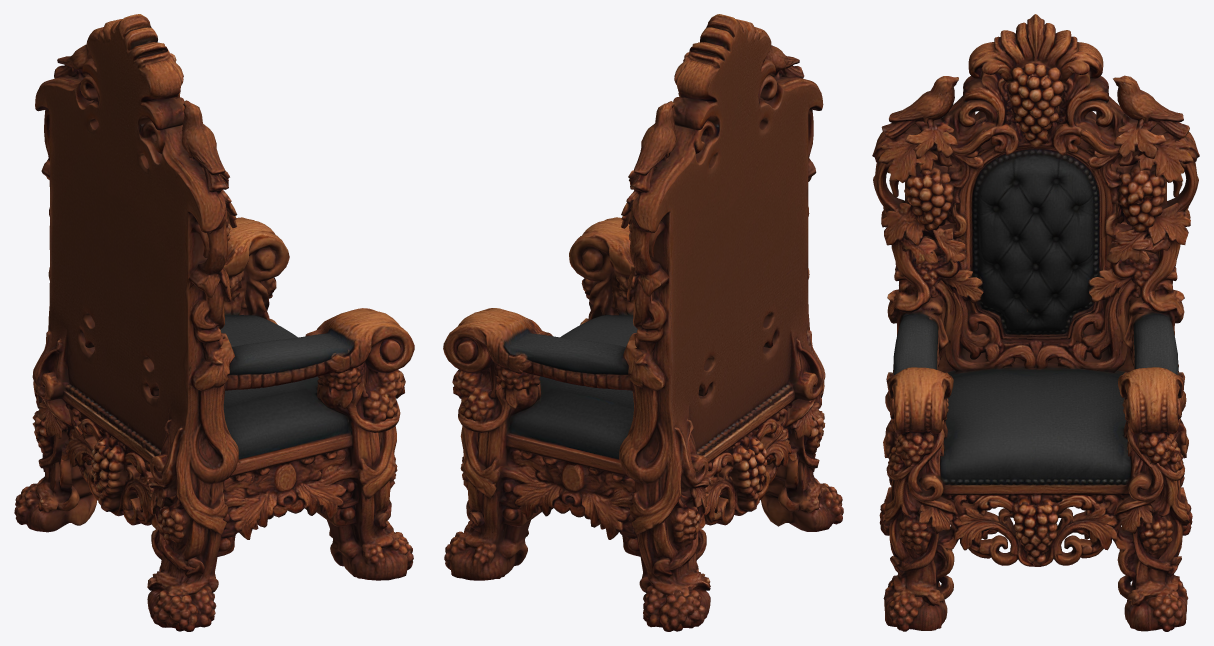
File: sf-ch-throne.glb
The picture shows the model from 3 angles, left to right: view 1: azimuth 30°, elevation 25°; view 2: azimuth 150°, elevation 25°; view 3: azimuth 270°, elevation 25°; orthographic projection. The views are drawn at different scales.
Visible parts, largest first — view 1: tripo_node_e896d1dd-173c-4d25-8c8d-2b9d2e6b2d5b_0; view 2: tripo_node_e896d1dd-173c-4d25-8c8d-2b9d2e6b2d5b_0; view 3: tripo_node_e896d1dd-173c-4d25-8c8d-2b9d2e6b2d5b_0.
Part boxes in pixels (box(x1,y1,x2,y2)): tripo_node_e896d1dd-173c-4d25-8c8d-2b9d2e6b2d5b_0: box(14, 14, 414, 631); tripo_node_e896d1dd-173c-4d25-8c8d-2b9d2e6b2d5b_0: box(443, 14, 843, 631); tripo_node_e896d1dd-173c-4d25-8c8d-2b9d2e6b2d5b_0: box(872, 14, 1199, 631).
Bounding box in the file's own units: 0.4907 × 1 × 0.5709.
1 material, 1 textured.
